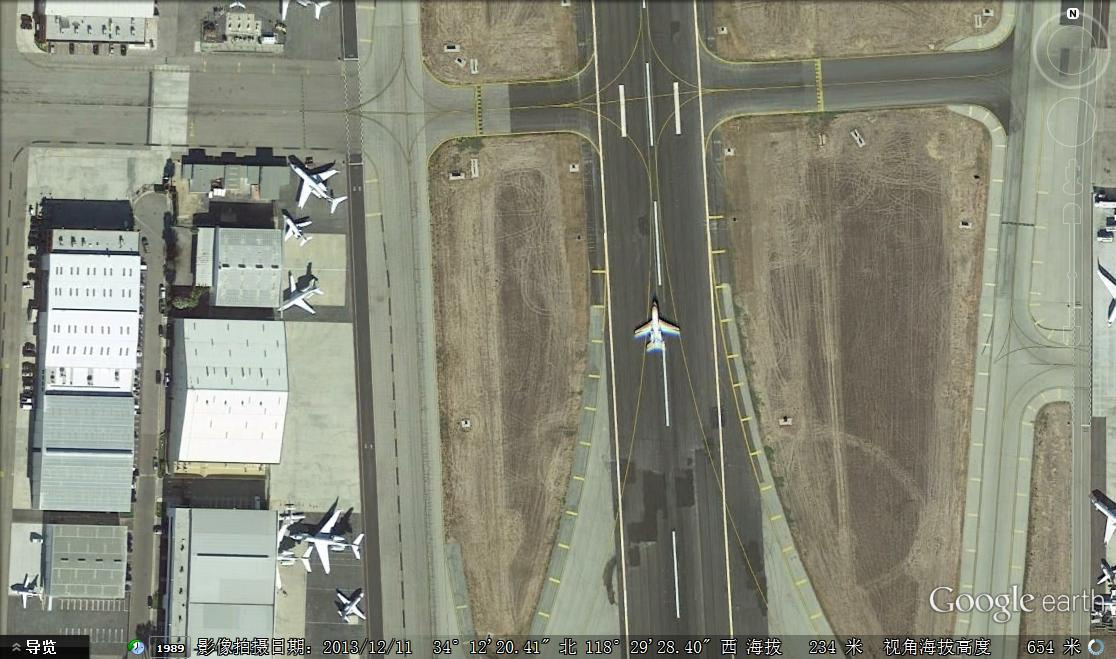aircraft: (282, 504, 370, 576), (286, 160, 352, 218), (630, 300, 687, 357), (273, 267, 328, 319), (280, 206, 317, 251), (331, 584, 369, 626), (11, 571, 50, 611)
